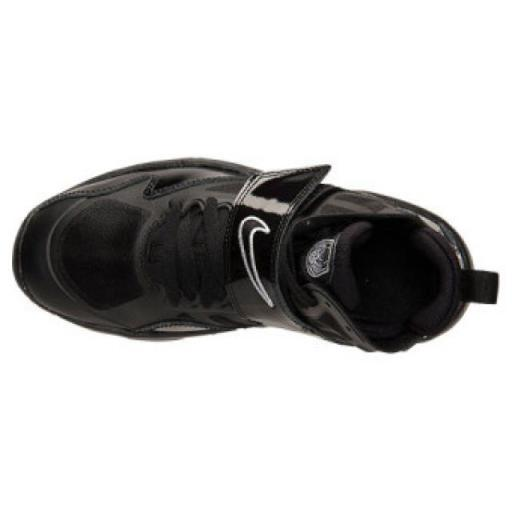Nike: (232, 211, 282, 313)
